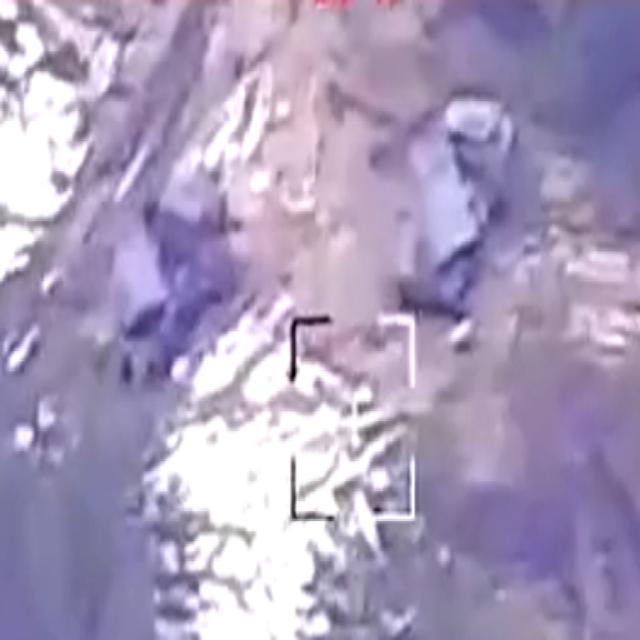MLRS: (379, 76, 516, 314), (102, 152, 226, 382)
